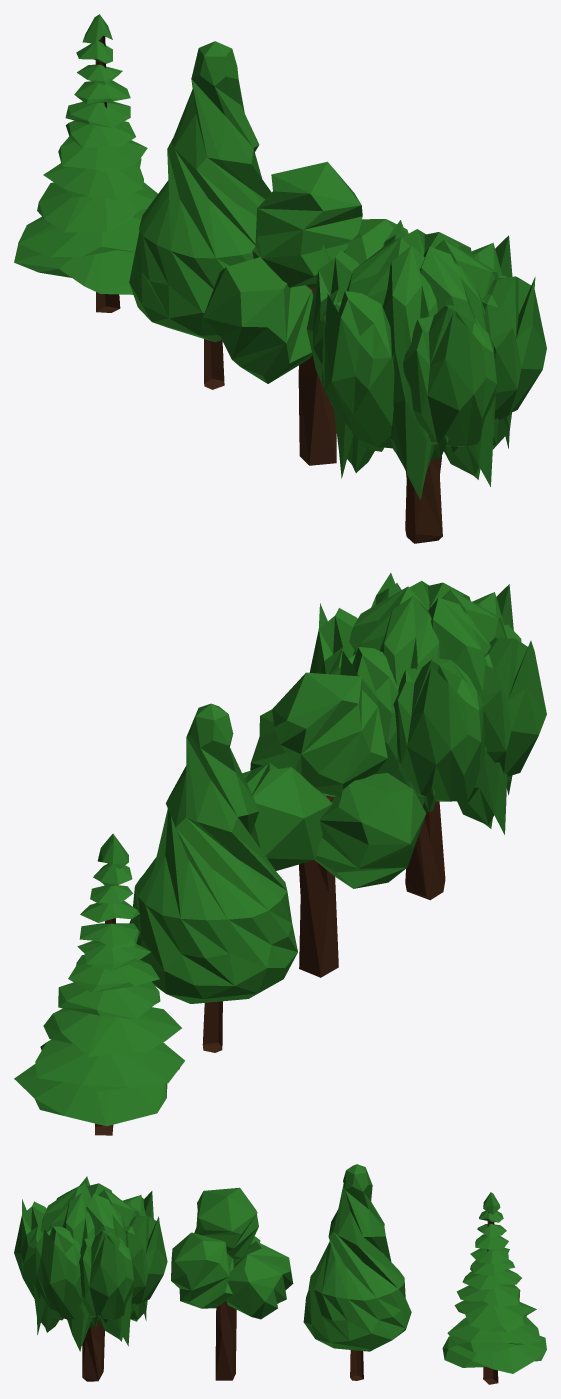
Rendered from tree1.fbx.
The picture shows the model from 3 angles, top to bottom: view 1: azimuth 30°, elevation 25°; view 2: azimuth 150°, elevation 25°; view 3: azimuth 270°, elevation 25°; orthographic projection. The views are drawn at different scales.
Visible parts, largest first — view 1: Cube.003, Cube.001, Cube, Cube.002; view 2: Cube.003, Cube.001, Cube, Cube.002; view 3: Cube.003, Cube.001, Cube, Cube.002.
Boxes of the visible parts, box(x1,y1,x2,y2) form: Cube.003: box(306, 220, 546, 543); Cube.001: box(129, 41, 271, 389); Cube: box(203, 161, 408, 465); Cube.002: box(14, 14, 157, 312); Cube.003: box(309, 573, 546, 900); Cube.001: box(129, 703, 297, 1052); Cube: box(242, 672, 426, 977); Cube.002: box(14, 833, 184, 1135); Cube.003: box(14, 1176, 167, 1381); Cube.001: box(303, 1164, 411, 1380); Cube: box(171, 1187, 293, 1380); Cube.002: box(442, 1192, 546, 1384).
Size of the model in its own units: 1369 by 2206 by 4884.
